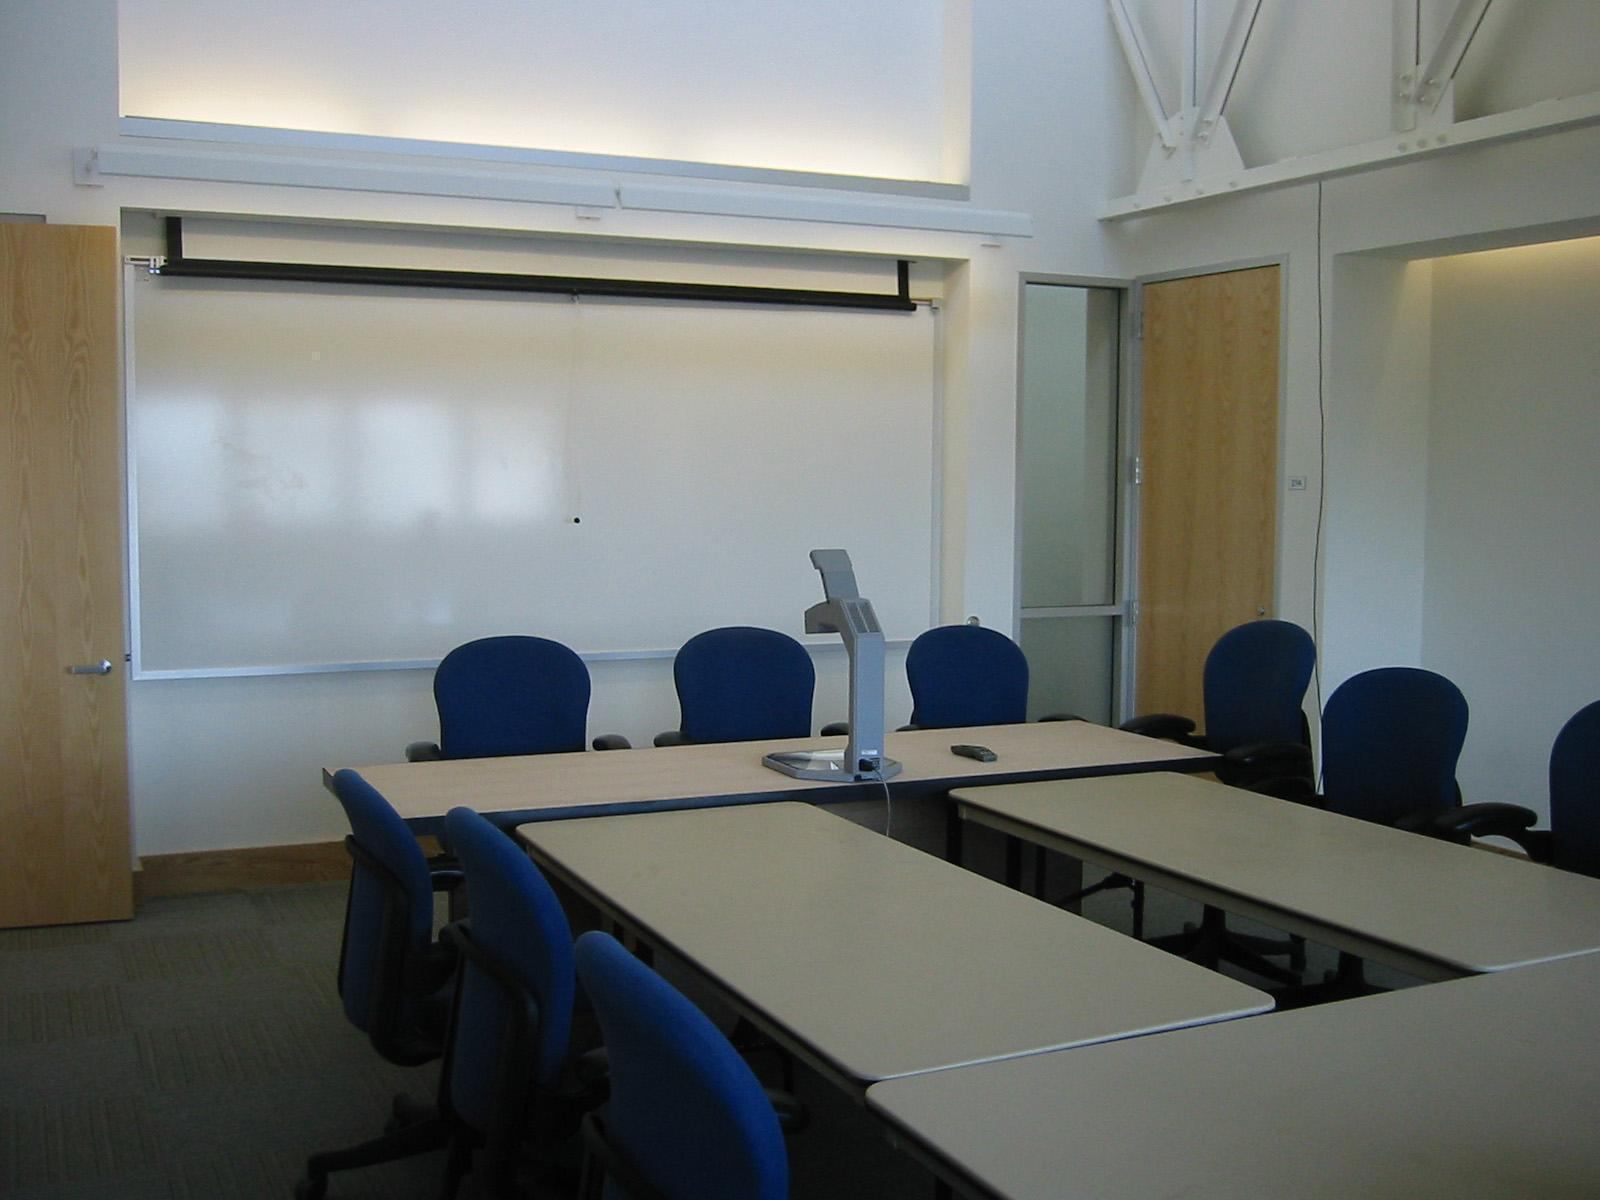Puerta: (10, 219, 118, 934), (1136, 277, 1269, 692)
